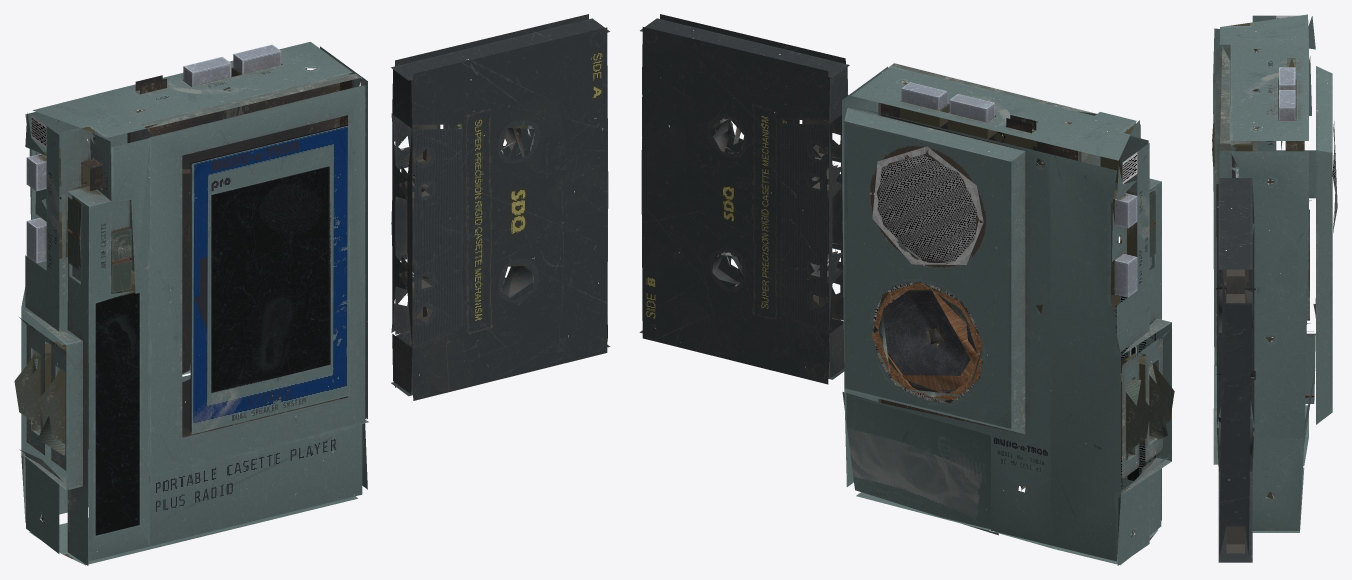
File: portable_cassette_player.glb
3 renders of one model, left to right at view 1: azimuth 30°, elevation 25°; view 2: azimuth 150°, elevation 25°; view 3: azimuth 270°, elevation 25°, orthographic. The views are drawn at different scales.
Parts seen in each view (by area): view 1: portable_cassette_player_lid; view 2: portable_cassette_player_lid; view 3: portable_cassette_player_lid.
Part boxes in pixels (box(x1,y1,x2,y2)): portable_cassette_player_lid: box(14, 14, 610, 565); portable_cassette_player_lid: box(639, 14, 1174, 565); portable_cassette_player_lid: box(1212, 14, 1337, 562).
Size of the model in its own units: 0.1735 by 0.1316 by 0.0392.
2 materials, 2 textured.
